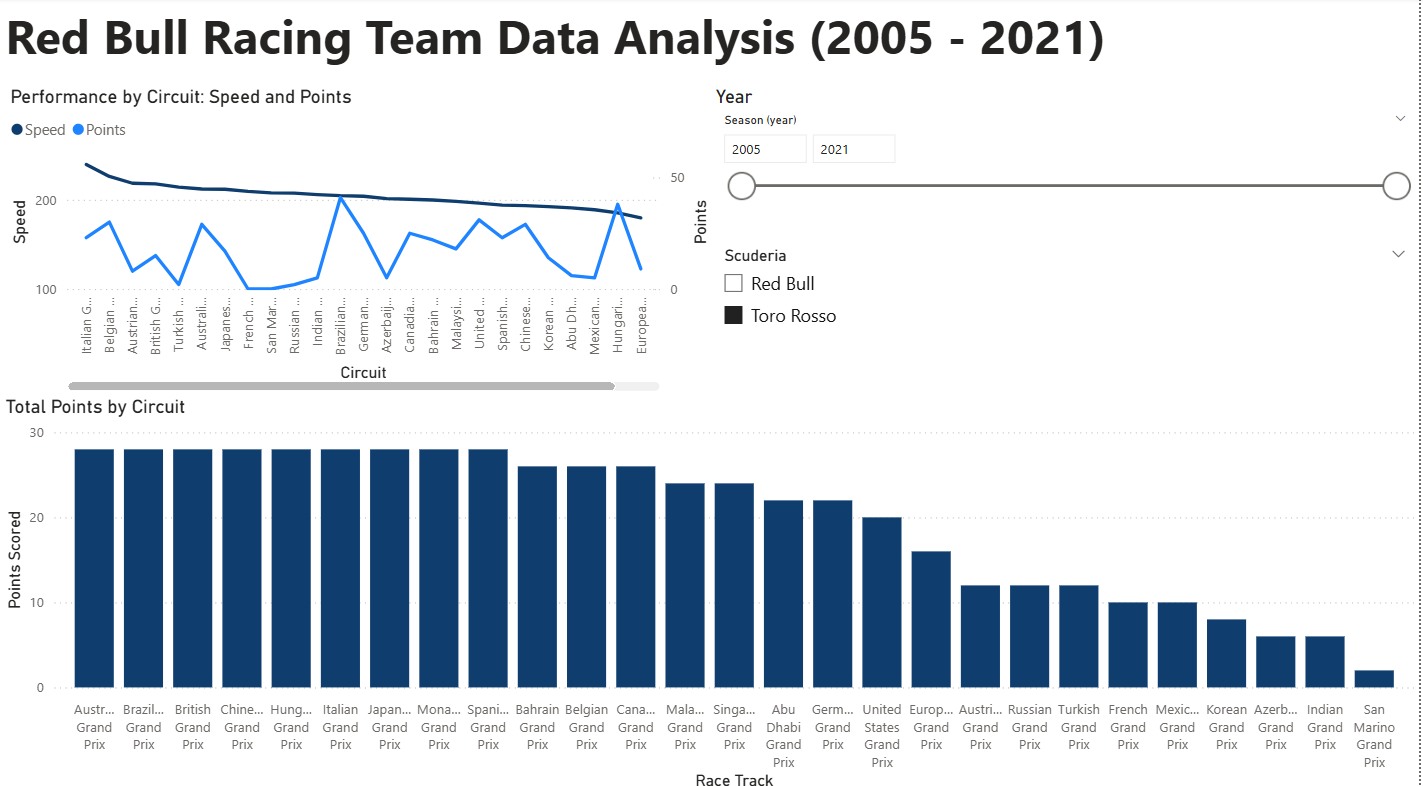

What the dashboard file says about the page in this screenshot:
{"tool":"powerbi","page":{"name":"Circuit-by-Circuit Evolution","canvas":[1280,720],"ordinal":2},"visuals":[{"type":"textbox","box":[0,0,1076.7,80.2],"z":0},{"type":"slicer","fields":{"Values":["data.Scuderia"]},"box":[640,220,640,140],"z":1000},{"type":"columnChart","title":"Total Points by Circuit","fields":{"Category":["data.event_name"],"Y":["CountNonNull(data.points)"]},"box":[0,360,1280,360],"z":2000},{"type":"lineChart","title":"Performance by Circuit: Speed and Points ","fields":{"Category":["data.event_name"],"Y2":["Sum(data.points)"],"Y":["Avg(data.fastestlapspeed)"]},"box":[5,80,640,280],"z":3000},{"type":"slicer","title":"Year","fields":{"Values":["data.year"]},"box":[640,80,640,140],"z":4000}]}

Visuals, with their boxes in screenshot pixels (x1, y1, x2, y2), scaled from the page's 1280x720 canvas onto the 1423x786 screenshot:
textbox: 0:0:1197:88
slicer - data.Scuderia: 712:240:1422:393
"Total Points by Circuit" columnChart: 0:393:1422:785
"Performance by Circuit: Speed and Points " lineChart: 6:87:717:393
"Year" slicer: 712:87:1422:240
